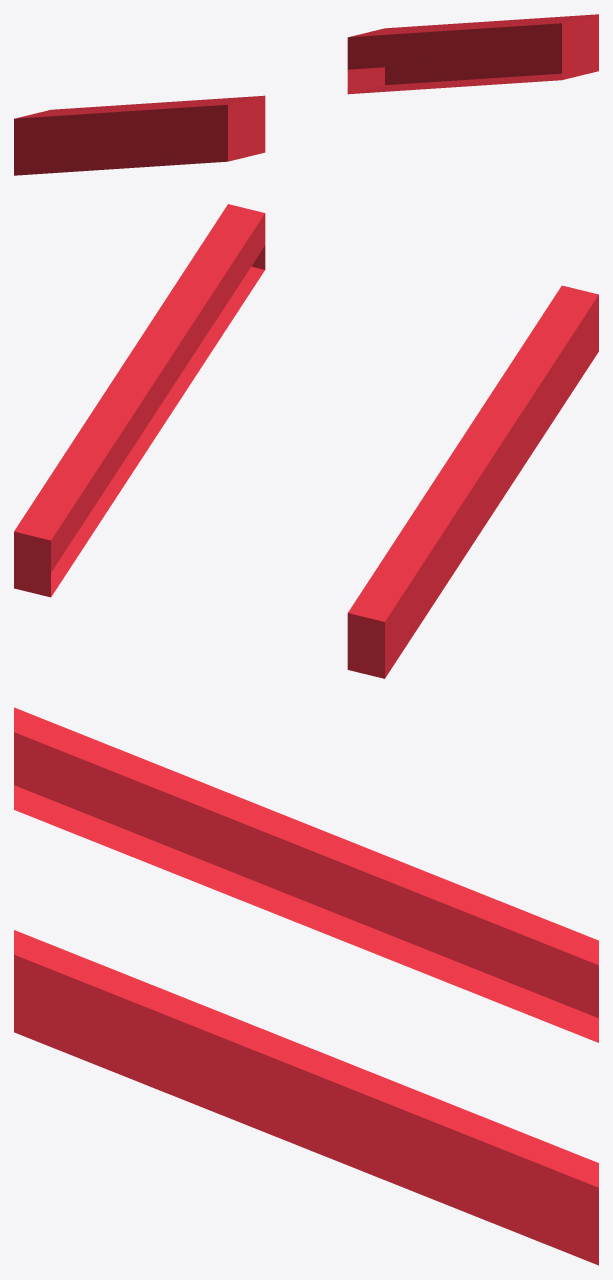
The model's file is RampCWall.fbx.
3 views of the same model, one above another, from view 1: azimuth 30°, elevation 25°; view 2: azimuth 150°, elevation 25°; view 3: azimuth 270°, elevation 25° (orthographic). The views are drawn at different scales.
Parts seen in each view (by area): view 1: rampC; view 2: rampC; view 3: rampC.
Boxes of the visible parts, box(x1,y1,x2,y2) form: rampC: box(14, 14, 598, 175); rampC: box(14, 204, 598, 678); rampC: box(14, 707, 598, 1265).
Bounding box in the file's own units: 39.37 × 23.09 × 39.37.
